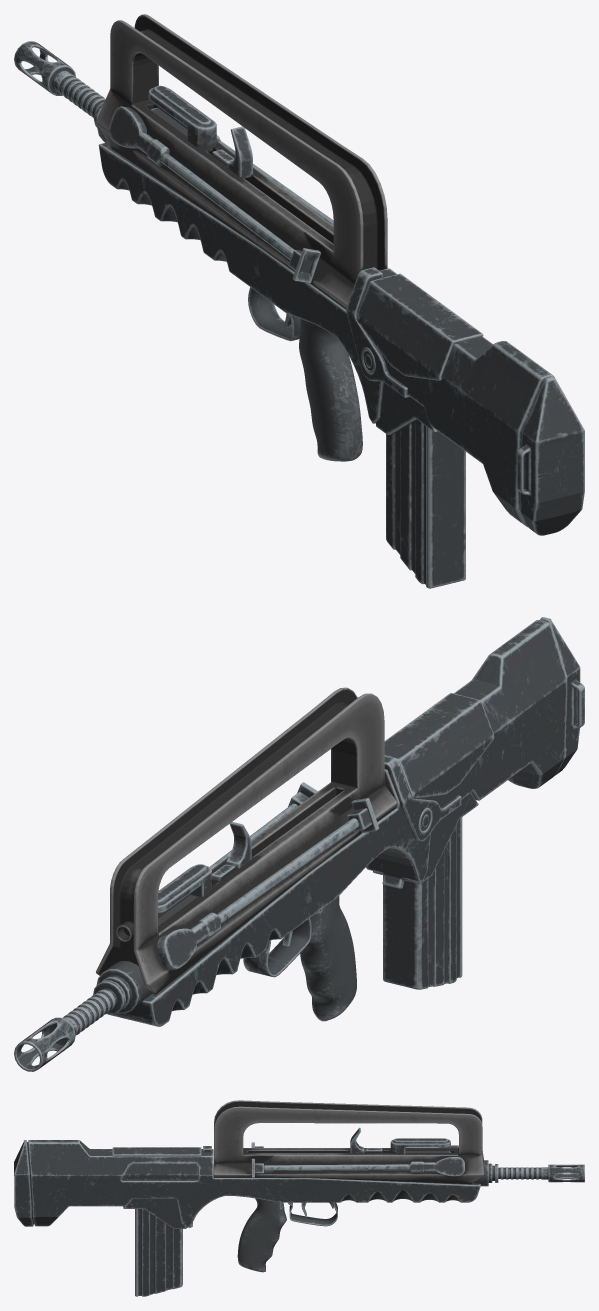
File: weapon_famas.glb
The picture shows the model from 3 angles, top to bottom: view 1: azimuth 30°, elevation 25°; view 2: azimuth 150°, elevation 25°; view 3: azimuth 270°, elevation 25°; orthographic projection. The views are drawn at different scales.
Visible parts, largest first — view 1: Receiver, Mag; view 2: Receiver, Mag; view 3: Receiver, Mag.
Boxes of the visible parts, x1=… form: Receiver: x1=14, y1=14, x2=584, y2=588; Mag: x1=299, y1=318, x2=362, y2=461; Receiver: x1=14, y1=617, x2=584, y2=1071; Mag: x1=300, y1=896, x2=356, y2=1021; Receiver: x1=14, y1=1100, x2=584, y2=1296; Mag: x1=237, y1=1198, x2=286, y2=1272.
Bounding box in the file's own units: 0.0679 × 0.2618 × 0.72.
Materials: 3 (3 with a texture image).
